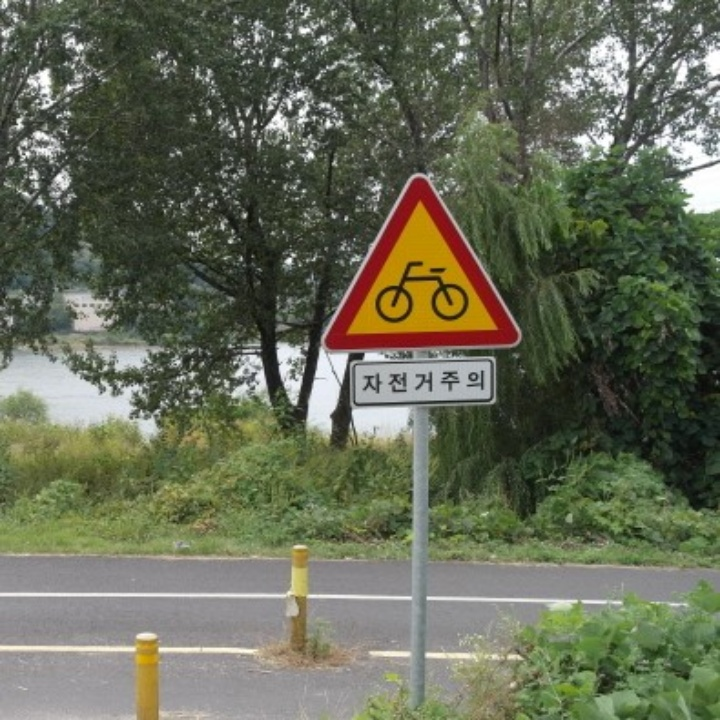bicycle: (321, 174, 518, 350)
